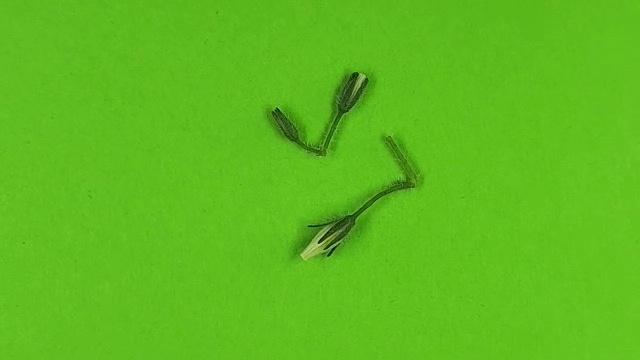Flower Bud: (300, 216, 355, 262), (336, 71, 369, 111), (270, 107, 302, 145)
